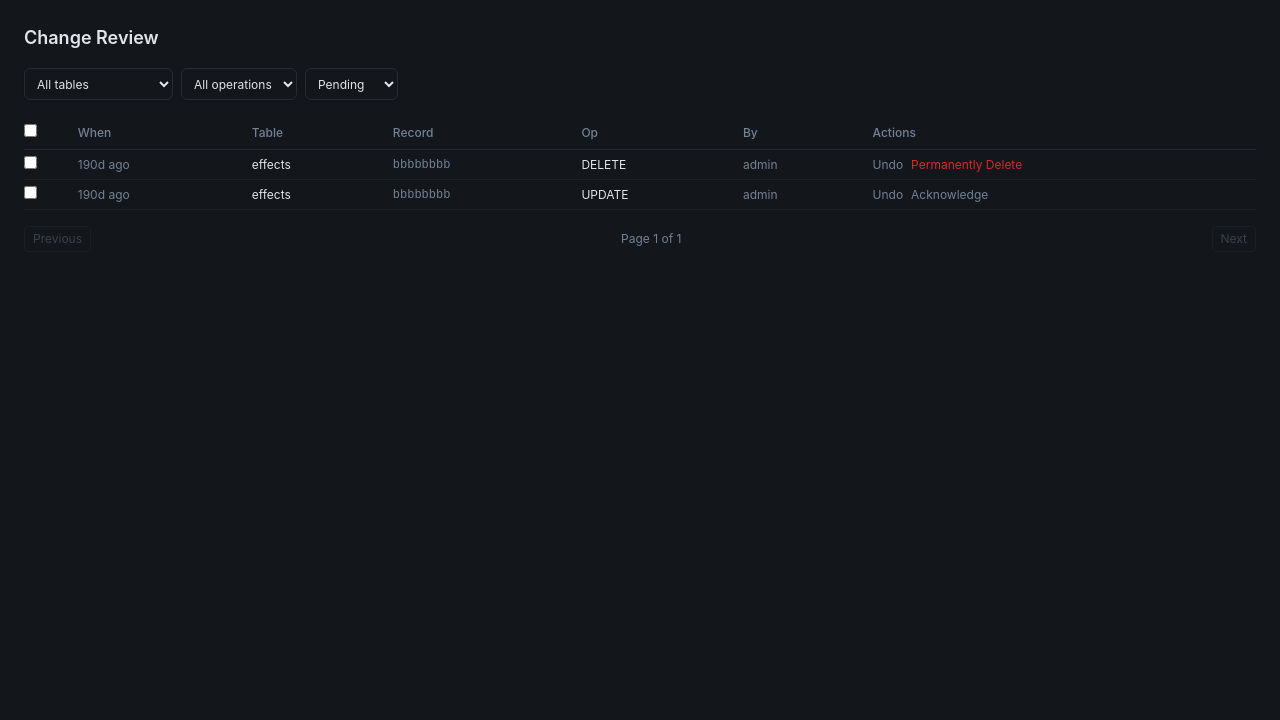
Test: ChangeReviewPage › clicking a row fetches the detail endpoint and shows the diff modal
This screenshot has width=1280, height=720.
Step 1. Click the row "190d ago effects bbbbbbbb UPDATE admin Undo Acknowledge" → (640, 194), box [24,180,1256,210]
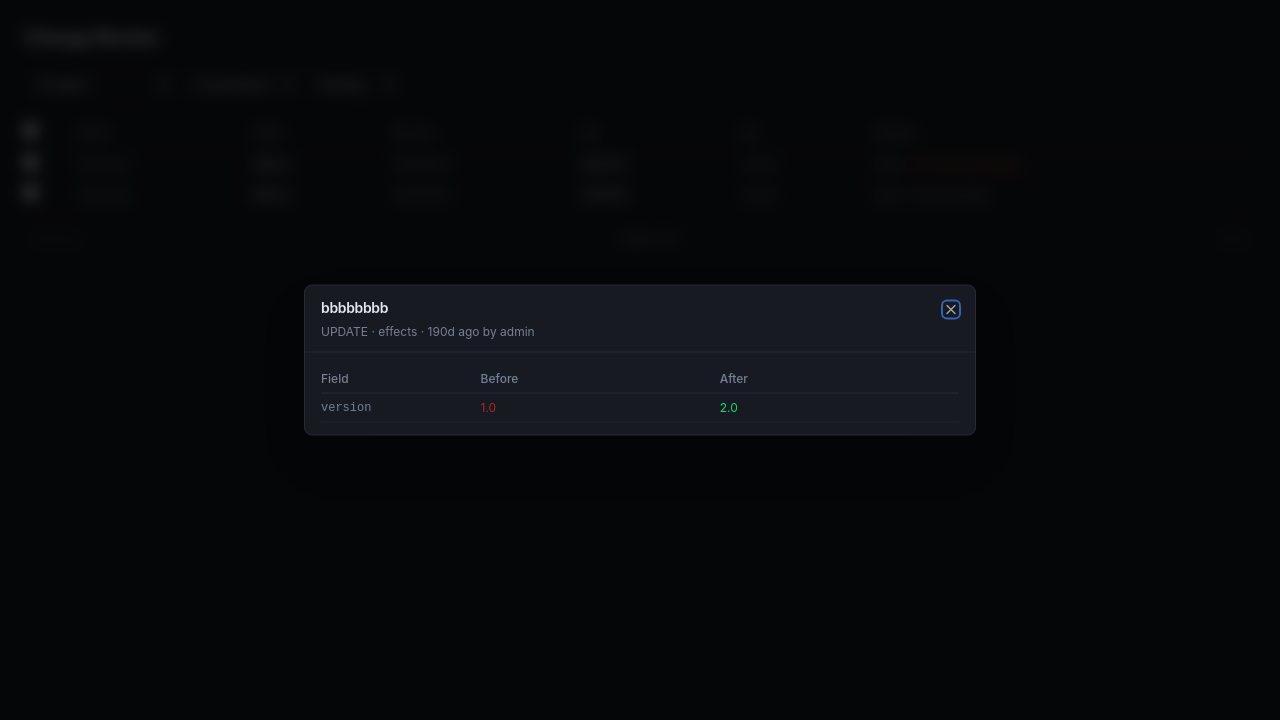
Expected: the column heading "Before" is shown, [480,364,720,393]
Expected: the column heading "After" is shown, [720,364,959,393]
